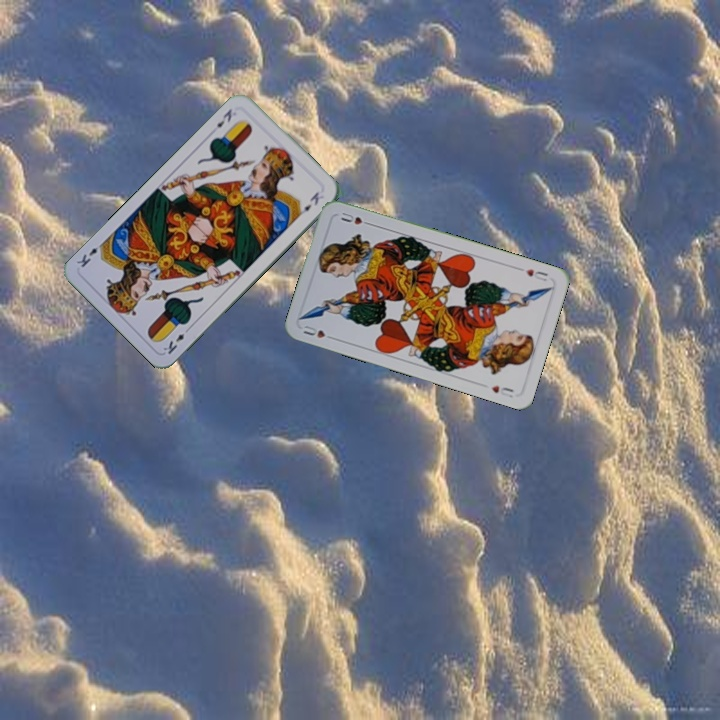EK: (159, 323, 193, 357), (212, 105, 235, 130)
HU: (299, 321, 338, 342), (514, 264, 550, 284)
